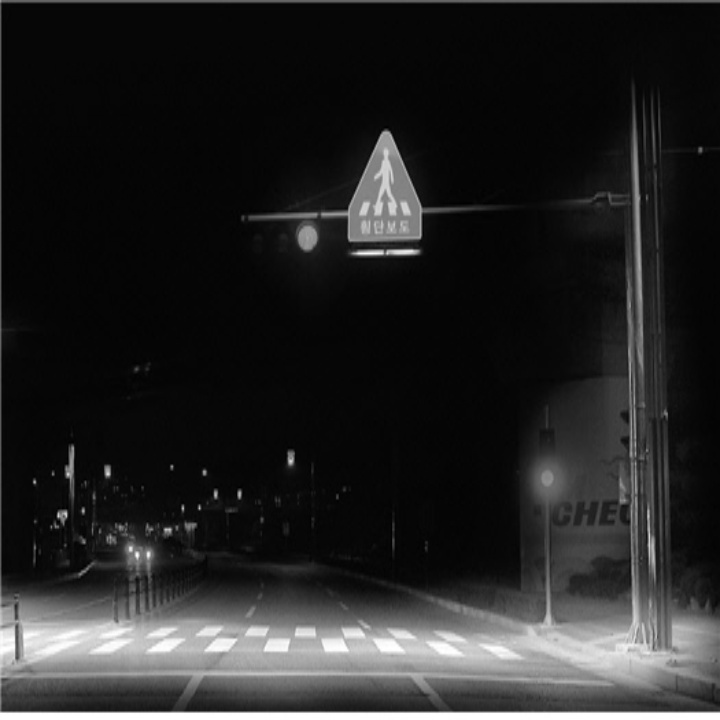cross: (339, 139, 422, 213)
